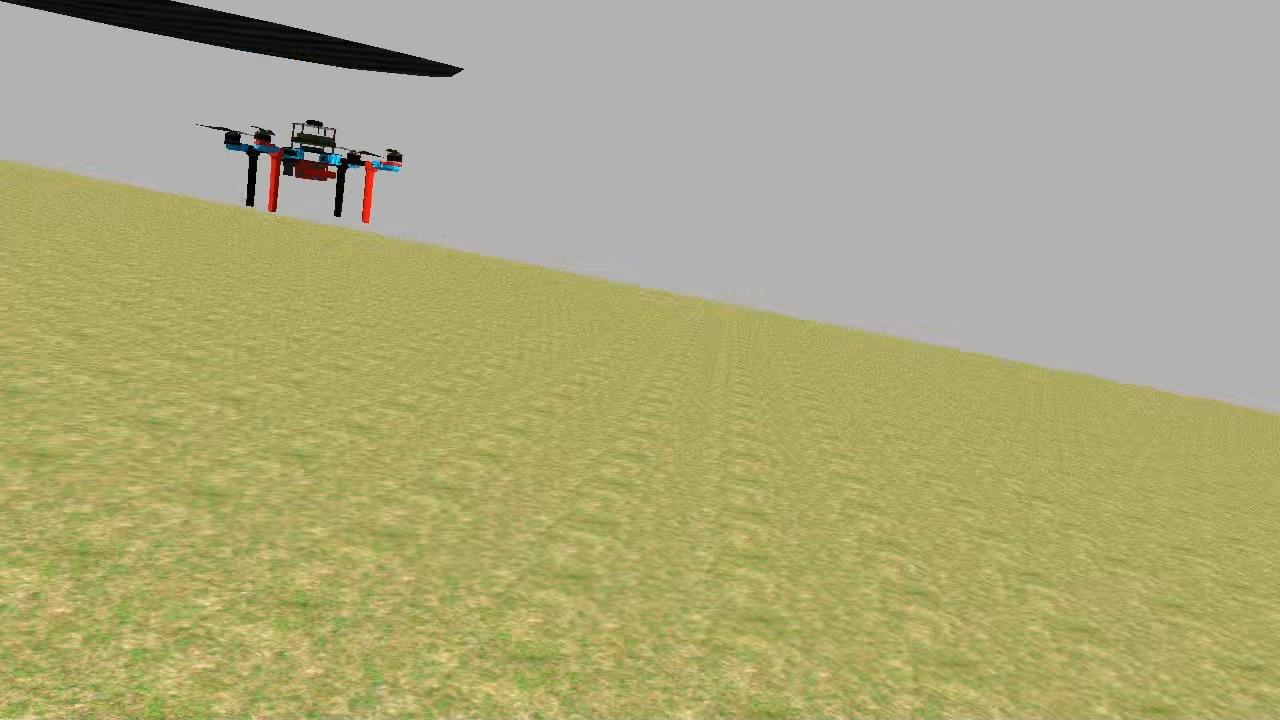UAV: (220, 112, 414, 228)
